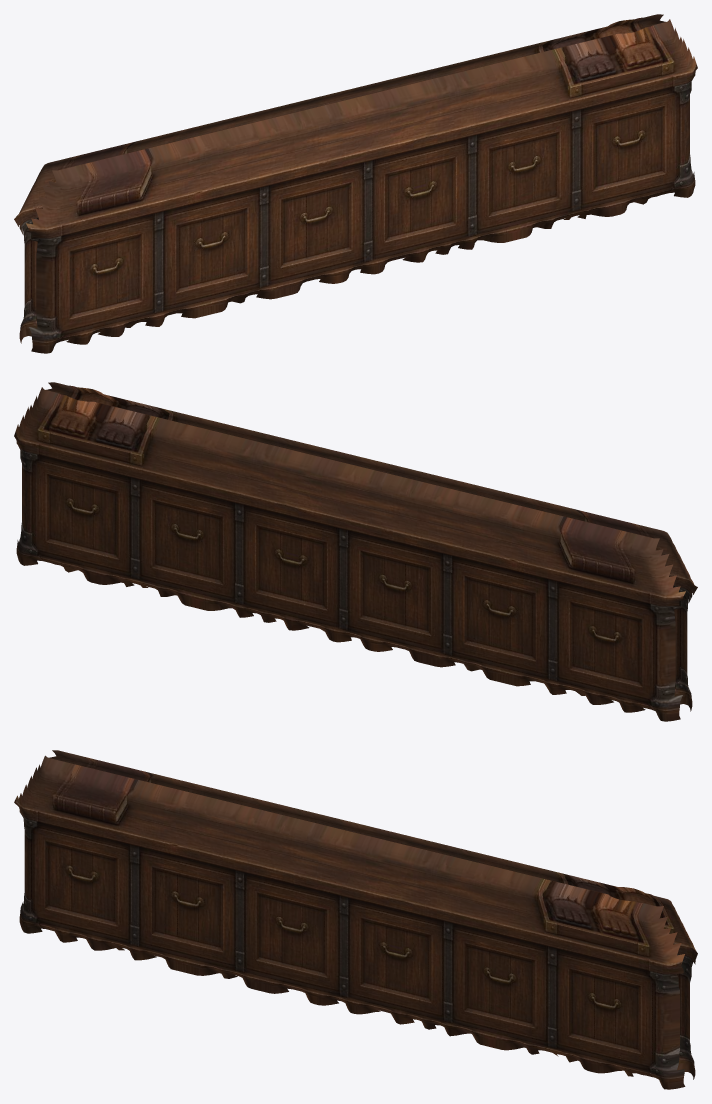
The model's file is v4-armory-scatter-counter-ledger.glb.
3 views of the same model, one above another, from view 1: azimuth 30°, elevation 25°; view 2: azimuth 150°, elevation 25°; view 3: azimuth 330°, elevation 25° (orthographic).
Parts seen in each view (by area): view 1: v4-armory-scatter-counter-ledger; view 2: v4-armory-scatter-counter-ledger; view 3: v4-armory-scatter-counter-ledger.
Part boxes in pixels (x1,y1,x2,y2): v4-armory-scatter-counter-ledger: [14, 14, 697, 353]; v4-armory-scatter-counter-ledger: [14, 382, 697, 721]; v4-armory-scatter-counter-ledger: [14, 750, 697, 1089].
Bounding box in the file's own units: 3.8 × 0.95 × 0.24.
1 material, 1 textured.
